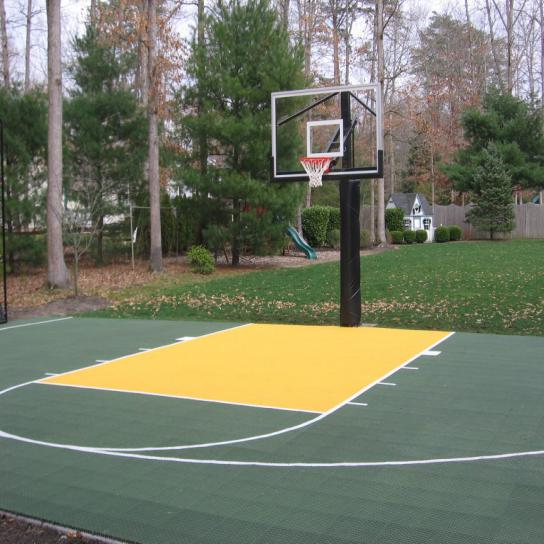basketball-hoop: (300, 152, 331, 191)
